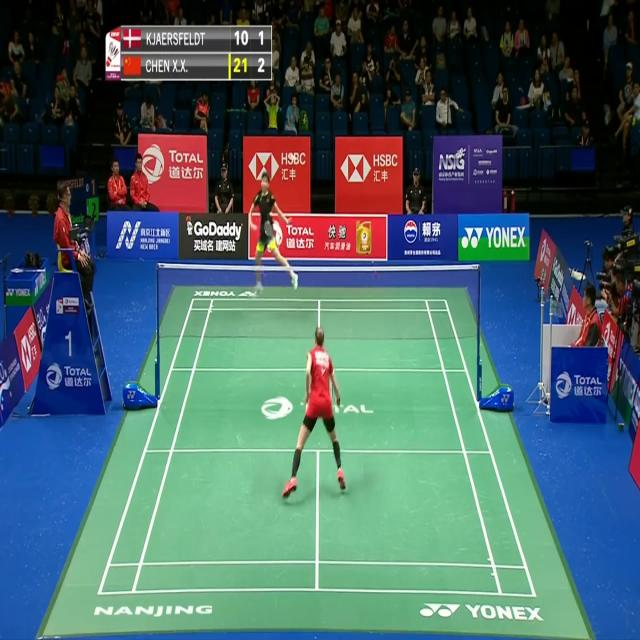Player1: (281, 324, 348, 506)
Player2: (247, 170, 304, 306)
